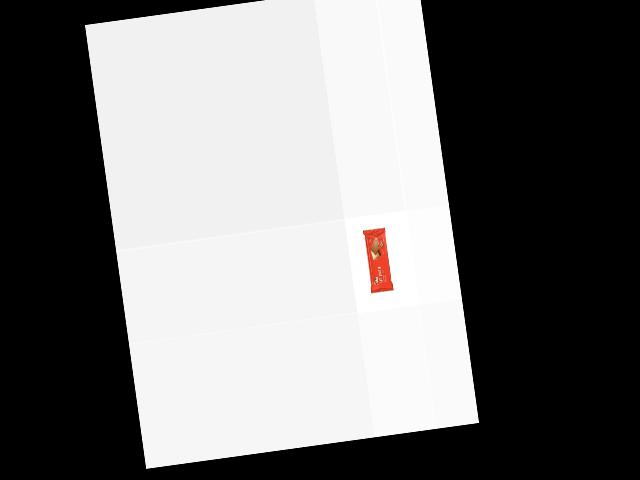chocolate: (362, 227, 394, 295)
